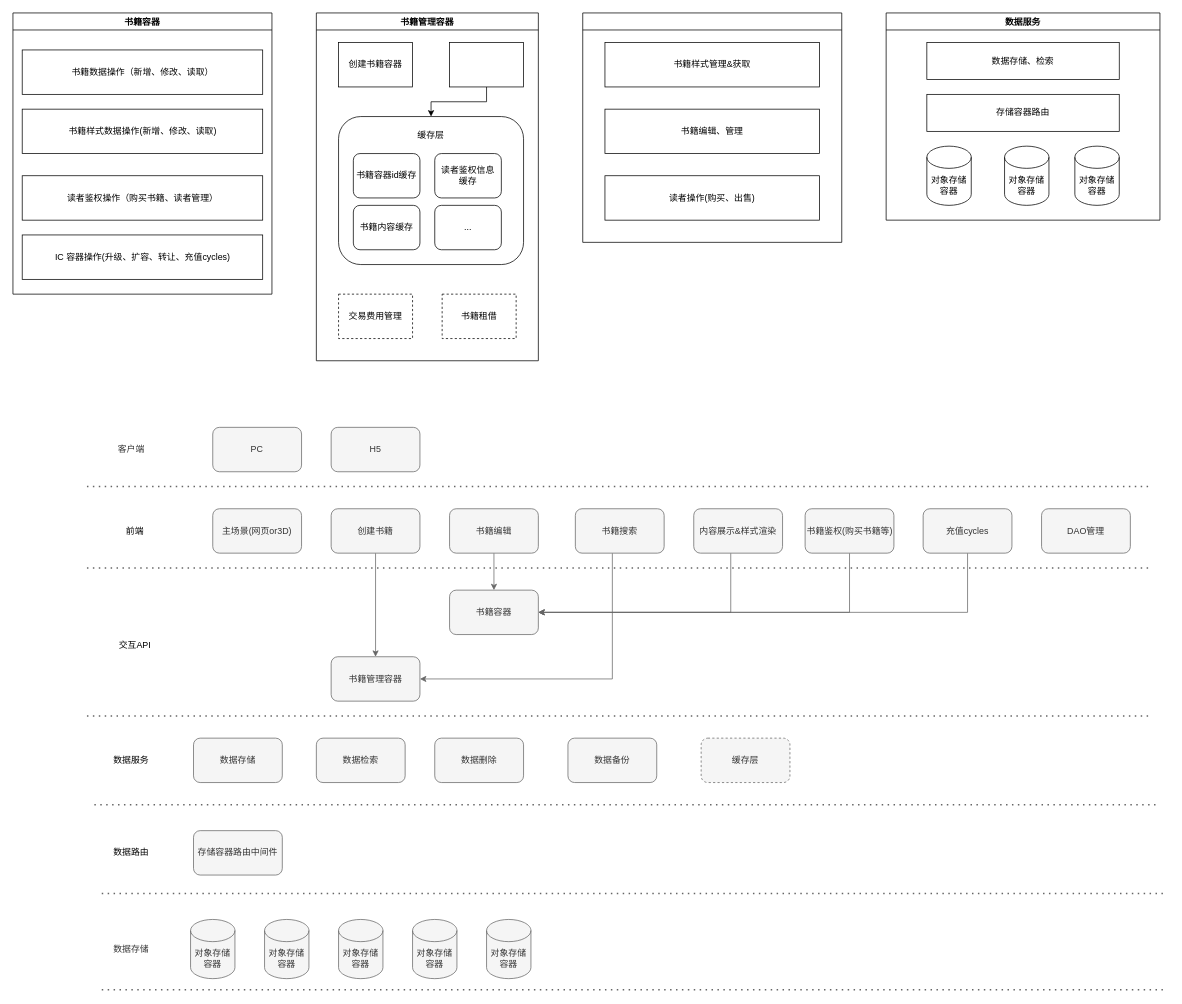
This 1182x1004 diagram has some shape labels left out. The shapes that lost their labels are listed below. From the top down, each one's box as (x1, y1, x2, y2) in pixels, then its label:
(449, 42, 524, 87): 书籍检索
(582, 12, 842, 242): 前端容器
